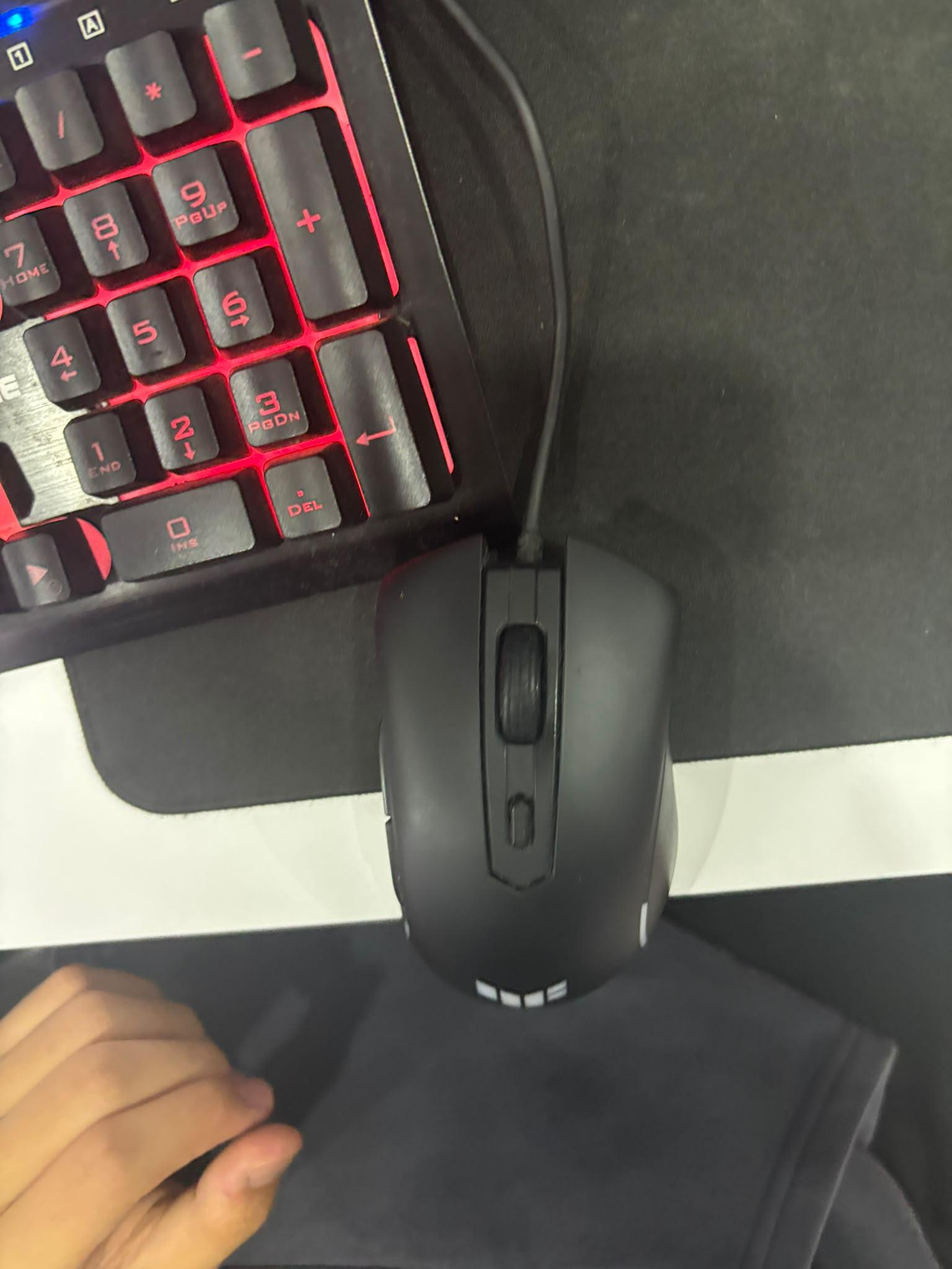cable: (439, 0, 571, 565)
keyboard: (0, 0, 518, 673)
mouse: (376, 529, 681, 1014)
